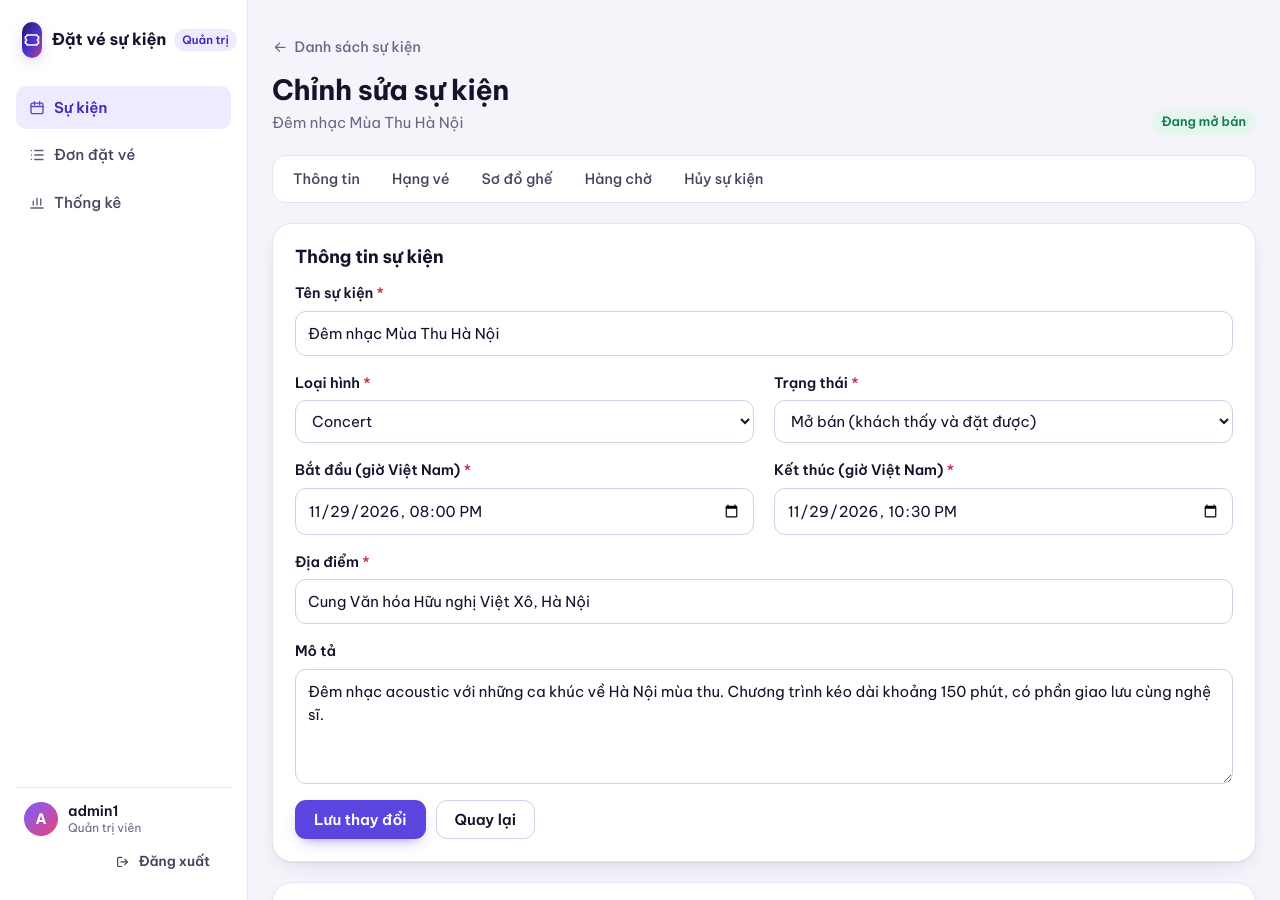
Test: quản lý sự kiện và hạng vé › sửa sự kiện với dữ liệu điền sẵn, chỉ gửi trường đã đổi
Expected: the field labelled "Tên sự kiện *" holds "Đêm nhạc Mùa Thu Hà Nội", 295,311 -> 1233,356
Step 1. Click the button "Lưu thay đổi" → click(360, 819), box 295,800 -> 426,839
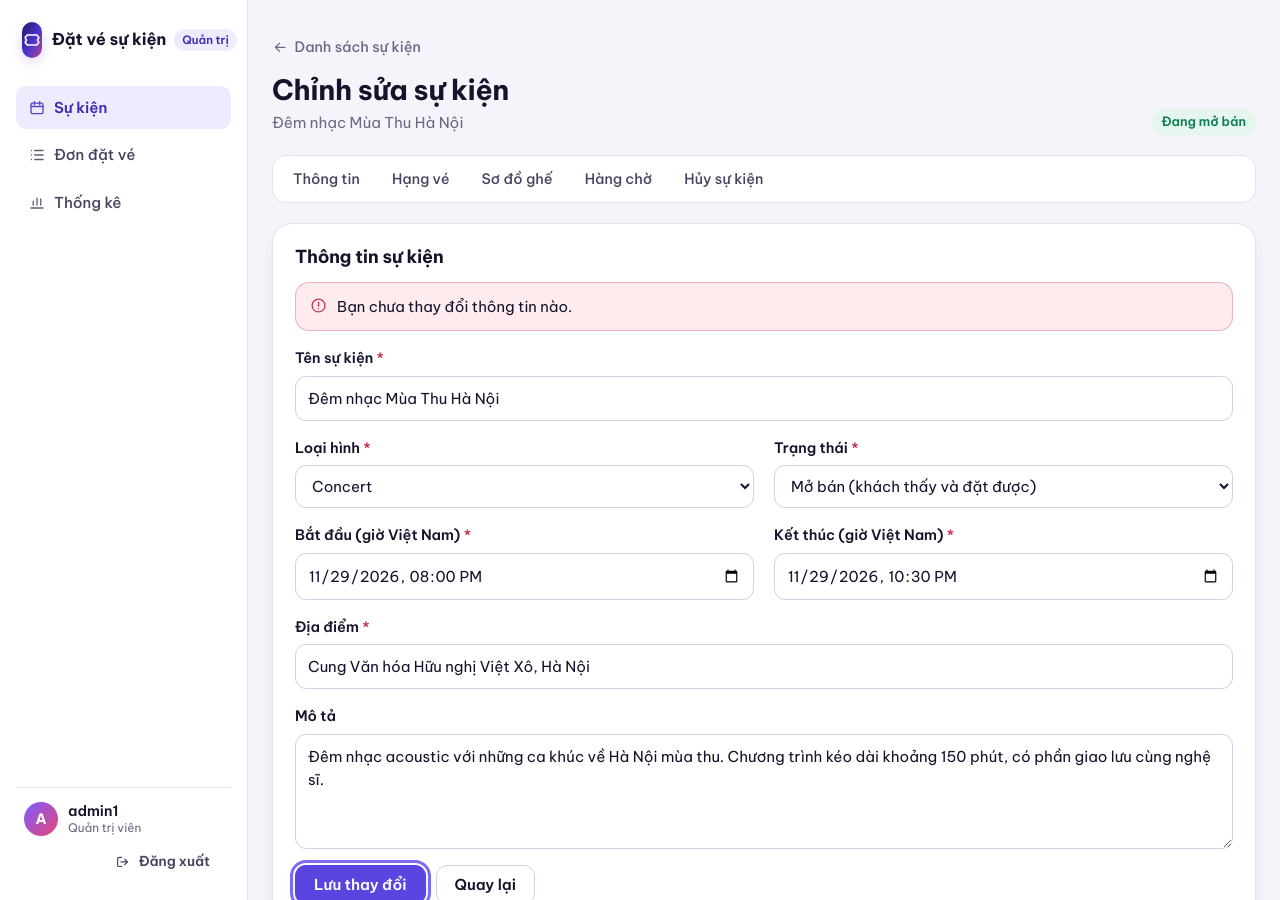
Expected: the text "Bạn chưa thay đổi thông tin nào." is shown, 337,297 -> 572,316
Step 2. Replace the text in the field labelled "Tên sự kiện *" with "Đêm nhạc Mùa Thu Hà Nội 2026" → (764, 398), box 295,376 -> 1233,421
(page scrolled)
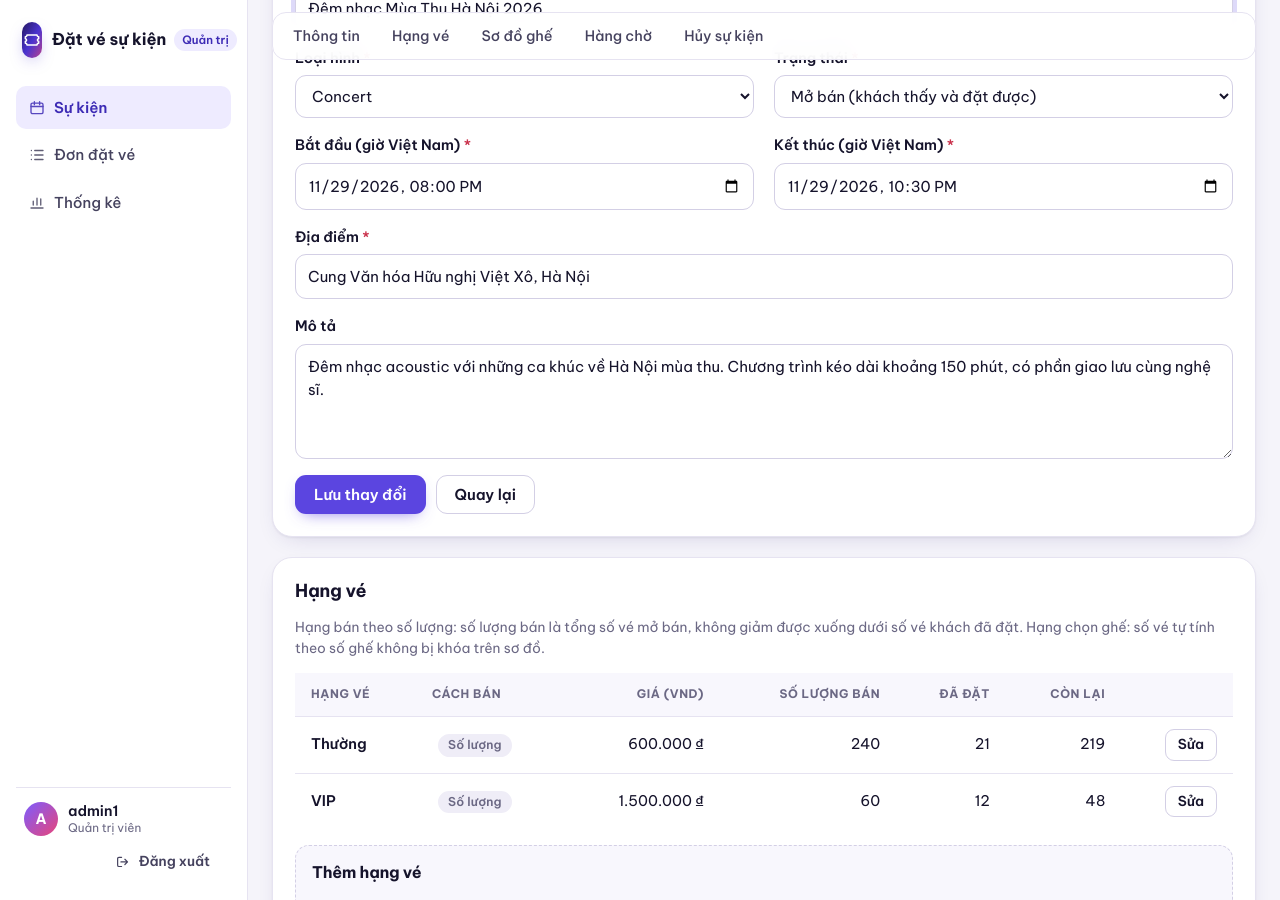
Step 3. Click the button "Lưu thay đổi" → click(360, 494), box 295,475 -> 426,514
(page scrolled)
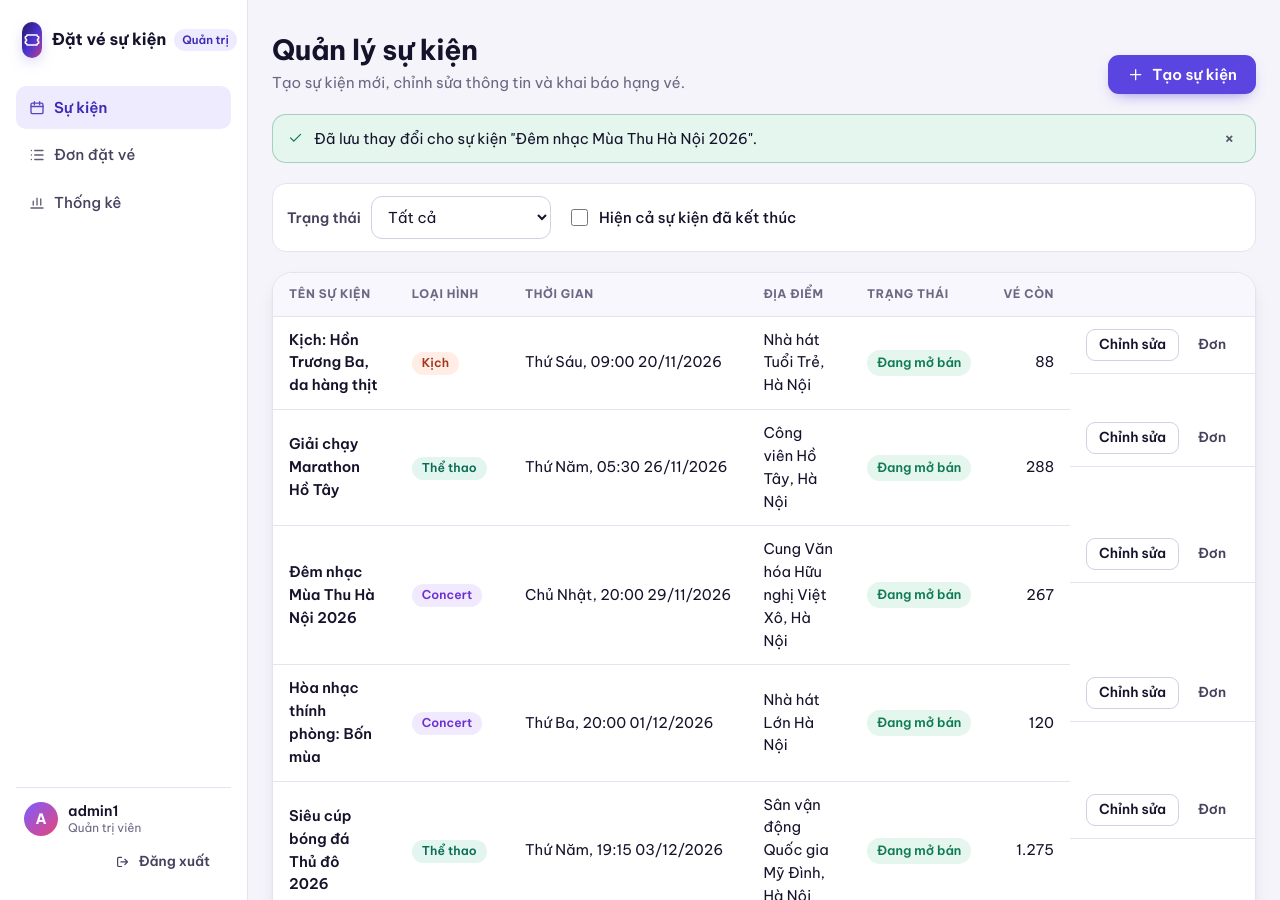
Expected: the heading "Quản lý sự kiện" is shown, 272,32 -> 478,67
Expected: the text "Đã lưu thay đổi cho sự kiện \"Đêm nhạc Mùa Thu Hà Nội 2026\"." is shown, 314,129 -> 757,148
Expected: the cell "Đêm nhạc Mùa Thu Hà Nội 2026" is shown, 273,526 -> 396,665
